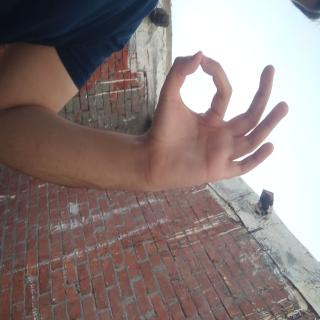Space: (34, 39, 149, 257)
